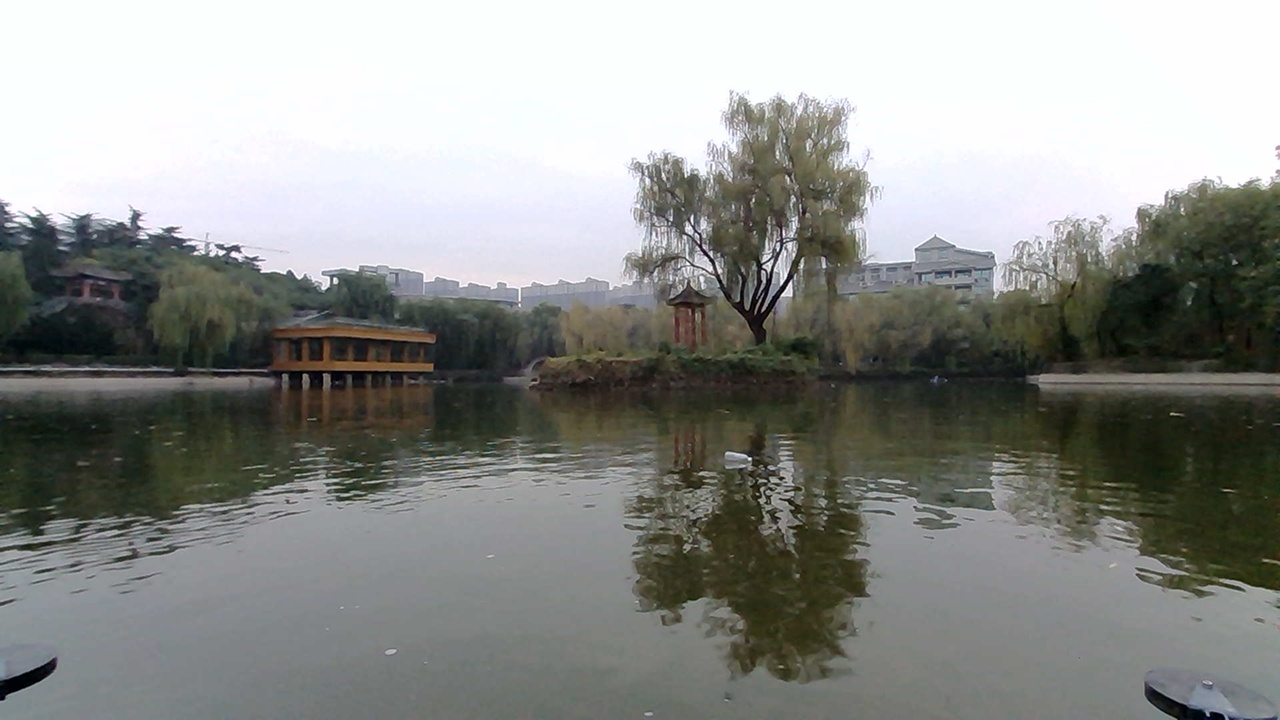bottle: (707, 435, 771, 468)
